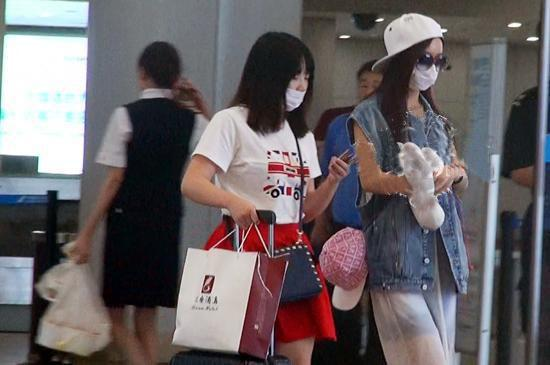OK: (409, 50, 444, 90)
WRONG: (270, 65, 315, 110)
